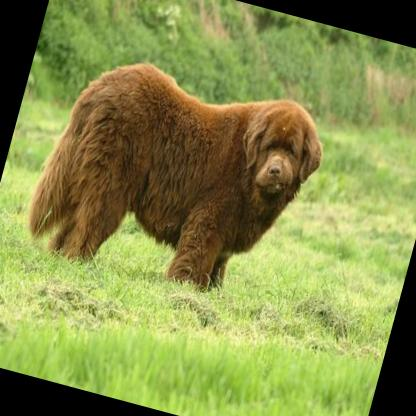Newfoundland: (20, 38, 335, 314)
